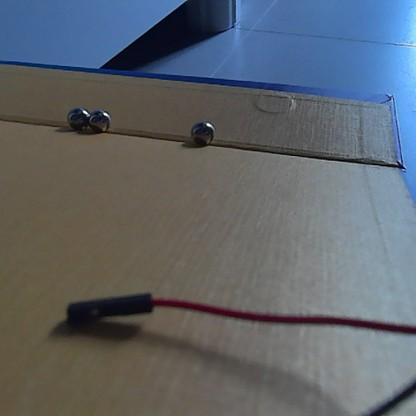ironball: (189, 118, 217, 146), (64, 105, 90, 134), (87, 108, 112, 134)
